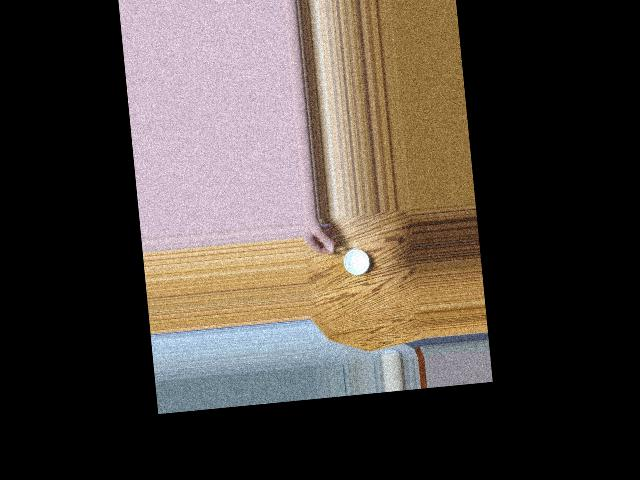cotage: (339, 244, 369, 276)
